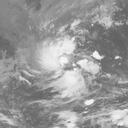cyclone: (35, 38, 96, 97)
